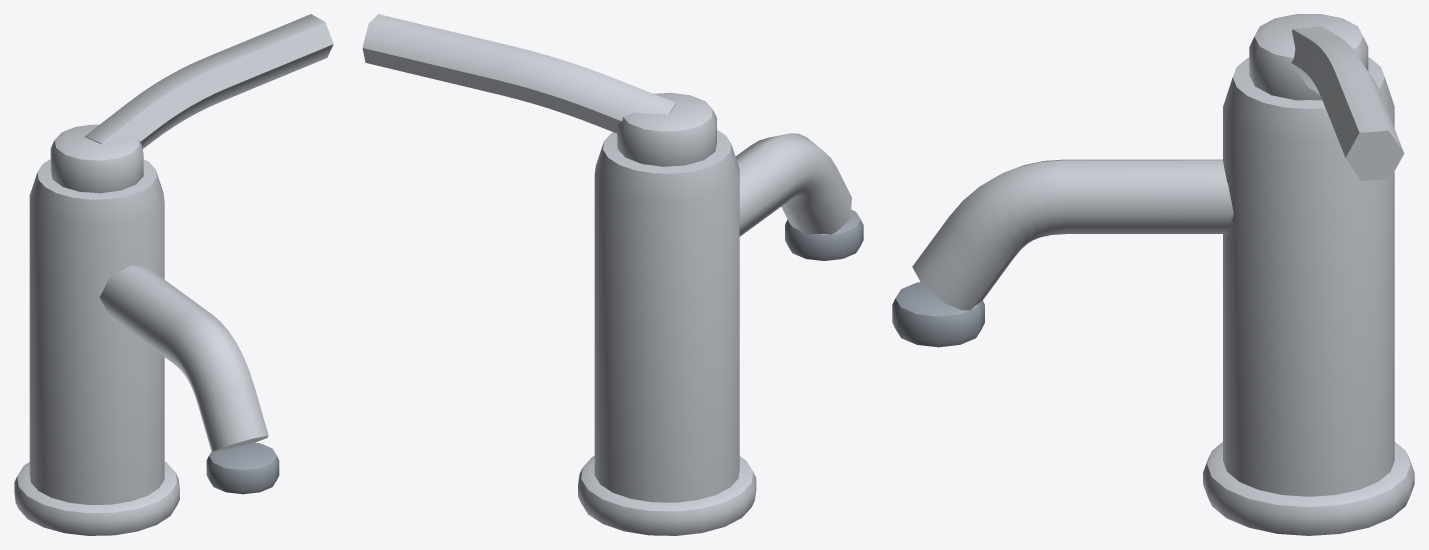
Rendered from torneira_monocomando_alavanca.glb.
The picture shows the model from 3 angles, left to right: view 1: azimuth 30°, elevation 25°; view 2: azimuth 150°, elevation 25°; view 3: azimuth 270°, elevation 25°; orthographic projection. The views are drawn at different scales.
Parts seen in each view (by area): view 1: torneira_monocomando_alavanca; view 2: torneira_monocomando_alavanca; view 3: torneira_monocomando_alavanca.
Boxes of the visible parts, x1,y1,x2,y2 form: torneira_monocomando_alavanca: (14,14,333,535); torneira_monocomando_alavanca: (362,14,863,535); torneira_monocomando_alavanca: (892,14,1414,535).
Bounding box in the file's own units: 0.1433 × 0.1729 × 0.158.
1 material, 1 textured.
